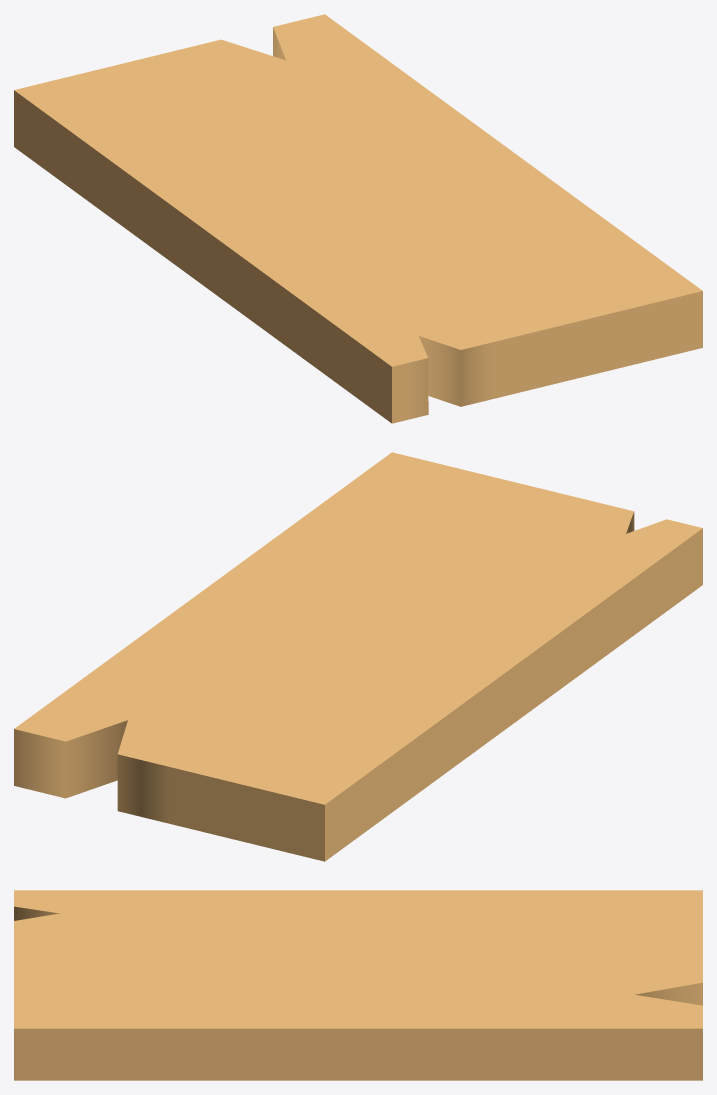
File: mokuzai_02.fbx
The picture shows the model from 3 angles, top to bottom: view 1: azimuth 30°, elevation 25°; view 2: azimuth 150°, elevation 25°; view 3: azimuth 270°, elevation 25°; orthographic projection. The views are drawn at different scales.
Visible parts, largest first — view 1: pCube3; view 2: pCube3; view 3: pCube3.
Boxes of the visible parts, left/top/right/bottom form: pCube3: left=14, top=14, right=702, bottom=423; pCube3: left=14, top=452, right=702, bottom=861; pCube3: left=14, top=890, right=702, bottom=1080.
Bounding box in the file's own units: 0.8104 × 0.1416 × 1.71.
Materials: 1 (1 with a texture image).
